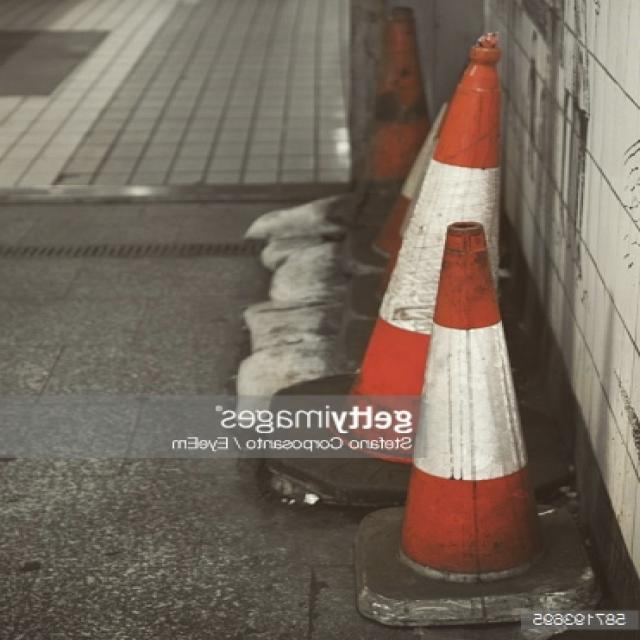cone: (266, 39, 571, 501), (353, 220, 604, 628), (325, 4, 432, 234)
